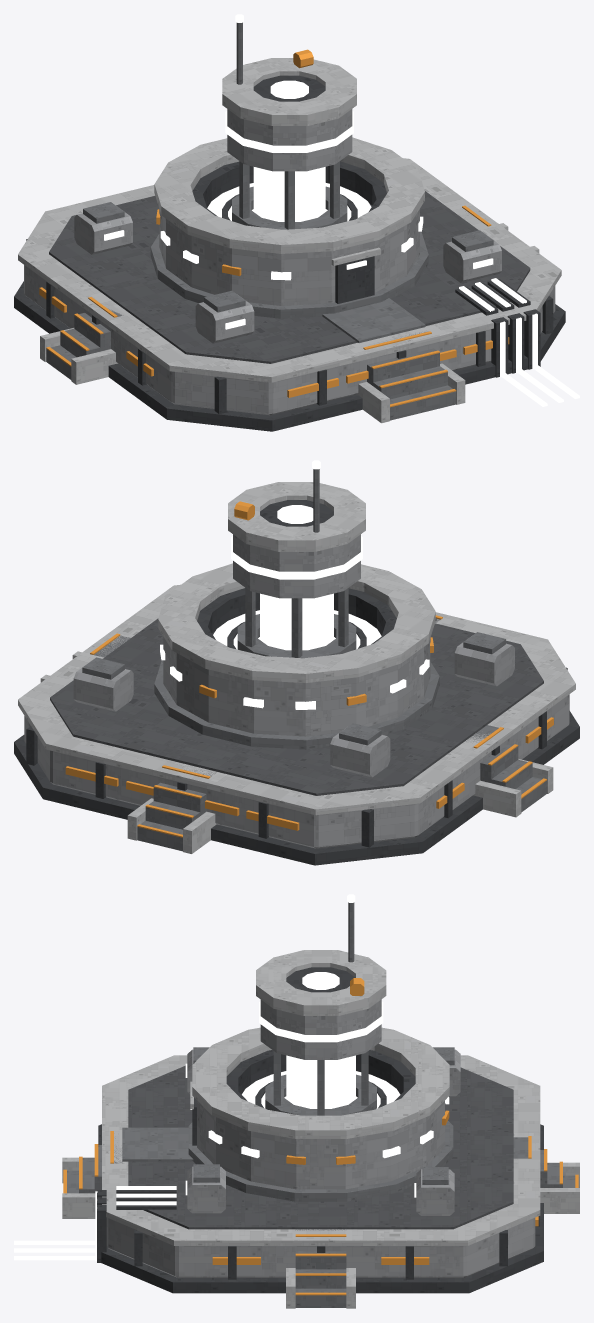
File: power_lod0.glb
The picture shows the model from 3 angles, top to bottom: view 1: azimuth 30°, elevation 25°; view 2: azimuth 150°, elevation 25°; view 3: azimuth 270°, elevation 25°; orthographic projection. The views are drawn at different scales.
Visible parts, largest first — view 1: power_base_body, power_core_glow, power_base_trim, power_conduit_glow, power_base_glow; view 2: power_base_body, power_core_glow, power_base_trim, power_base_glow; view 3: power_base_body, power_core_glow, power_base_trim, power_conduit_glow, power_base_glow.
Part boxes in pixels (x1,y1,x2,y2): power_base_body: (14, 22, 565, 431); power_core_glow: (207, 80, 371, 221); power_base_trim: (39, 49, 509, 407); power_conduit_glow: (459, 278, 579, 406); power_base_glow: (104, 14, 493, 329); power_base_body: (14, 469, 579, 865); power_core_glow: (213, 505, 381, 650); power_base_trim: (65, 501, 553, 837); power_base_glow: (160, 460, 429, 709); power_base_body: (62, 902, 579, 1308); power_core_glow: (242, 972, 400, 1108); power_base_trim: (63, 978, 578, 1295); power_conduit_glow: (14, 1186, 176, 1261); power_base_glow: (185, 894, 449, 1197).
Bounding box in the file's own units: 4.3 × 2.63 × 4.7.
3 materials, 1 textured.
